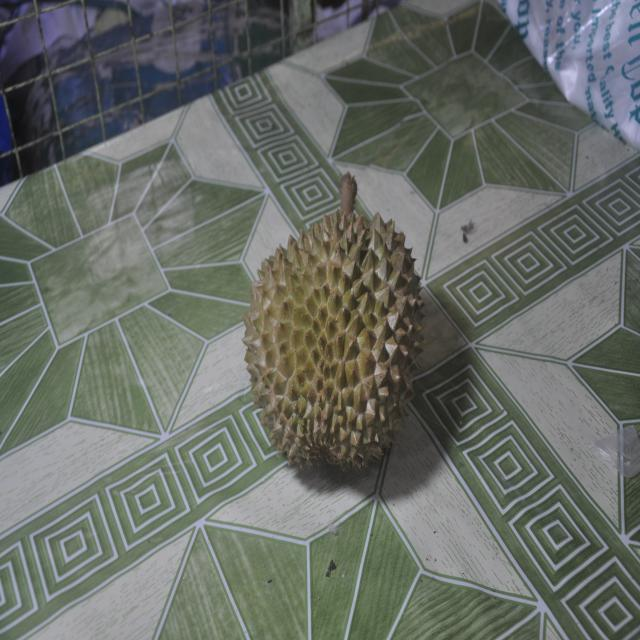mature: (243, 173, 436, 472)
